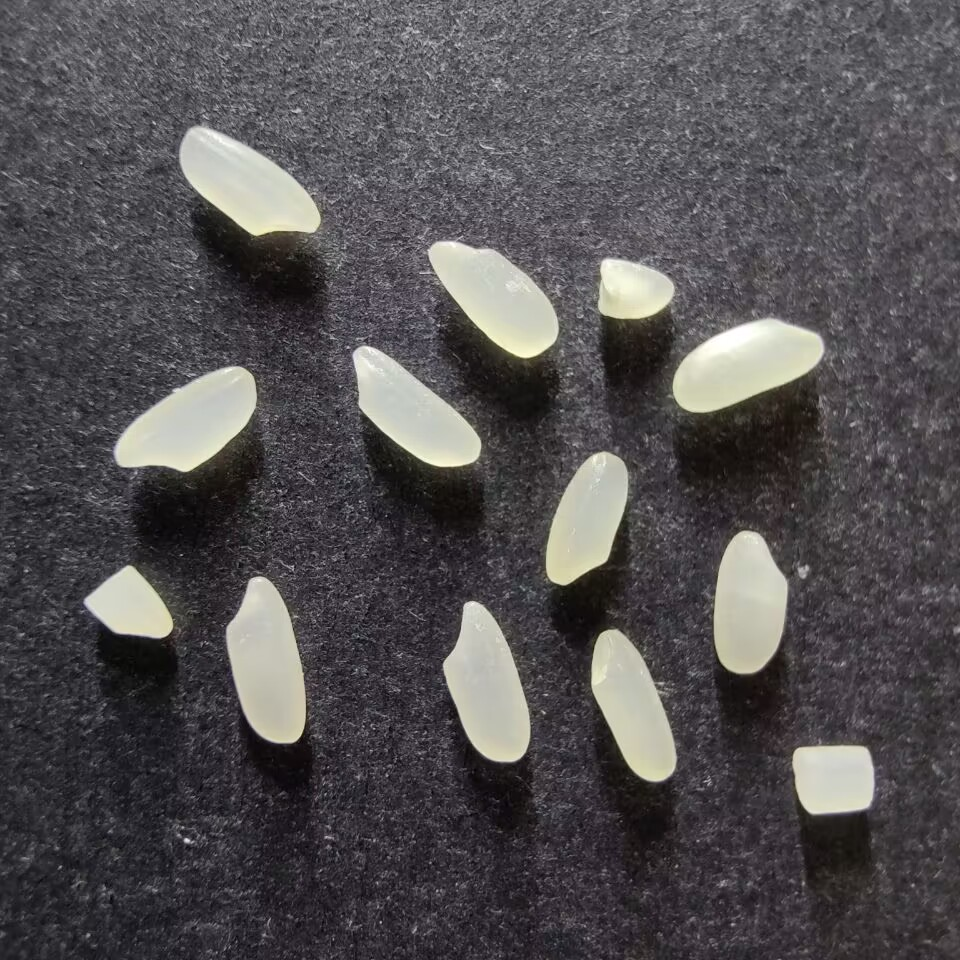broken: (82, 564, 173, 639), (791, 745, 875, 815), (596, 257, 675, 319)
rice: (351, 344, 482, 467), (178, 126, 321, 236), (427, 240, 558, 358), (113, 365, 257, 472), (441, 600, 532, 763), (671, 317, 823, 413), (224, 576, 306, 745), (589, 628, 678, 782), (544, 450, 630, 587), (712, 529, 788, 674)
